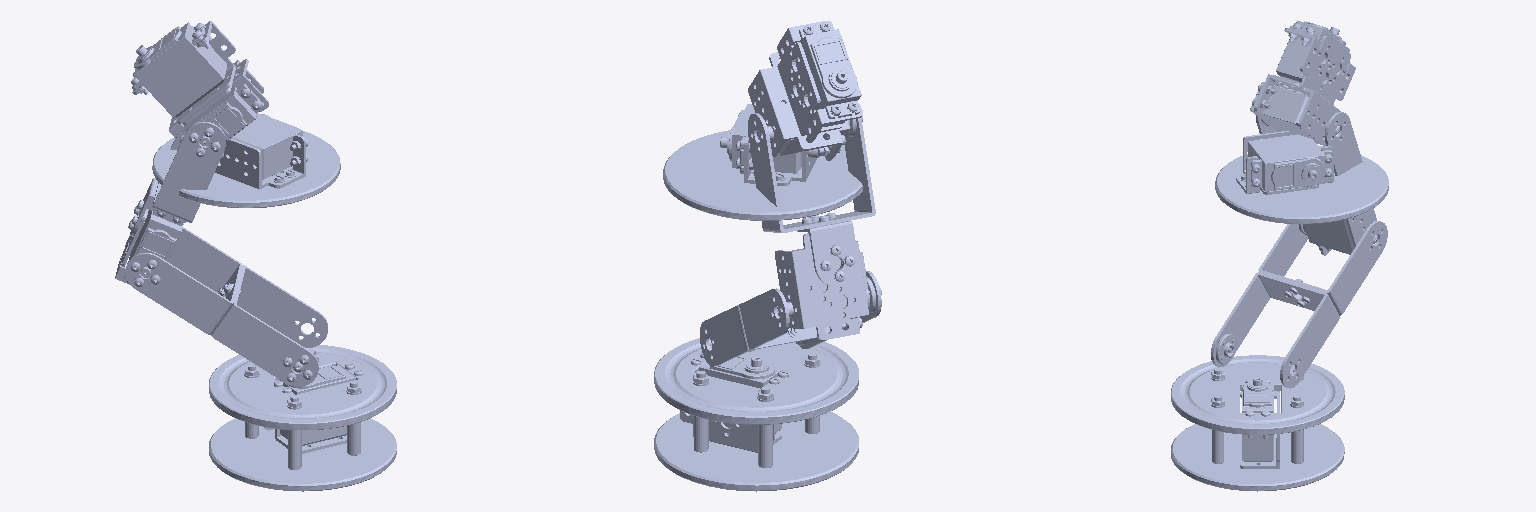
The robot description file, URDF, robot "Assem2SLDASM":
<?xml version="1.0" encoding="utf-8"?>
<!-- This URDF was automatically created by SolidWorks to URDF Exporter! Originally created by [author] ([email redacted]) 
     Commit Version: 1.4.4-24-g24328f6  Build Version: 1.5.7084.36479
     For more information, please see http://wiki.ros.org/sw_urdf_exporter -->
<robot
  name="Assem2SLDASM">
  <link
    name="Link1">
    <inertial>
      <origin
        xyz="0.00242337238300405 0.000244420895475418 0.0228672645166965"
        rpy="0 0 0" />
      <mass
        value="0.131801903556129" />
      <inertia
        ixx="7.63794329240272E-05"
        ixy="1.25864501604435E-07"
        ixz="1.05711051222879E-07"
        iyy="7.98578099765161E-05"
        iyz="-1.5585179106908E-07"
        izz="0.00014368056997496" />
    </inertial>
    <visual>
      <origin
        xyz="0 0 0"
        rpy="0 0 0" />
      <geometry>
        <mesh
          filename="package://Assem2SLDASM/meshes/Link1.STL" />
      </geometry>
      <material
        name="">
        <color
          rgba="0.792156862745098 0.819607843137255 0.933333333333333 1" />
      </material>
    </visual>
    <collision>
      <origin
        xyz="0 0 0"
        rpy="0 0 0" />
      <geometry>
        <mesh
          filename="package://Assem2SLDASM/meshes/Link1.STL" />
      </geometry>
    </collision>
  </link>
  <link
    name="Link2">
    <inertial>
      <origin
        xyz="-0.00448919132136779 0.0010163083381794 0.0132179745968559"
        rpy="0 0 0" />
      <mass
        value="0.0844685451790042" />
      <inertia
        ixx="4.04302621634984E-05"
        ixy="9.70410117387888E-08"
        ixz="7.29418615628457E-11"
        iyy="4.13116509442574E-05"
        iyz="-1.56570797606949E-07"
        izz="7.88565504182673E-05" />
    </inertial>
    <visual>
      <origin
        xyz="0 0 0"
        rpy="0 0 0" />
      <geometry>
        <mesh
          filename="package://Assem2SLDASM/meshes/Link2.STL" />
      </geometry>
      <material
        name="">
        <color
          rgba="0.792156862745098 0.819607843137255 0.933333333333333 1" />
      </material>
    </visual>
    <collision>
      <origin
        xyz="0 0 0"
        rpy="0 0 0" />
      <geometry>
        <mesh
          filename="package://Assem2SLDASM/meshes/Link2.STL" />
      </geometry>
    </collision>
  </link>
  <joint
    name="Joint12"
    type="continuous">
    <origin
      xyz="0 0 0.04455"
      rpy="0 0 -0.6268" />
    <parent
      link="Link1" />
    <child
      link="Link2" />
    <axis
      xyz="0 0 1" />
    <safety_controller
      k_velocity="0" />
  </joint>
  <link
    name="Link3">
    <inertial>
      <origin
        xyz="2.7761126730752E-13 -0.00292934095761329 0.0530478958063427"
        rpy="0 0 0" />
      <mass
        value="0.0197276275361929" />
      <inertia
        ixx="1.6432831338095E-05"
        ixy="5.72975956204265E-18"
        ixz="3.59141969635823E-18"
        iyy="7.60726797028143E-06"
        iyz="-9.54512370736908E-19"
        izz="1.06643004924981E-05" />
    </inertial>
    <visual>
      <origin
        xyz="0 0 0"
        rpy="0 0 0" />
      <geometry>
        <mesh
          filename="package://Assem2SLDASM/meshes/Link3.STL" />
      </geometry>
      <material
        name="">
        <color
          rgba="0.792156862745098 0.819607843137255 0.933333333333333 1" />
      </material>
    </visual>
    <collision>
      <origin
        xyz="0 0 0"
        rpy="0 0 0" />
      <geometry>
        <mesh
          filename="package://Assem2SLDASM/meshes/Link3.STL" />
      </geometry>
    </collision>
  </link>
  <joint
    name="Joint23"
    type="continuous">
    <origin
      xyz="0 0 0.0227499999999998"
      rpy="0 -1.00289556356776 0" />
    <parent
      link="Link2" />
    <child
      link="Link3" />
    <axis
      xyz="0 1 0" />
    <safety_controller
      k_velocity="0" />
  </joint>
  <link
    name="Link4">
    <inertial>
      <origin
        xyz="0.0221626245965853 -0.00296659378825499 0.00141694604215706"
        rpy="0 0 0" />
      <mass
        value="0.0507152226018798" />
      <inertia
        ixx="1.18096953827948E-05"
        ixy="-1.02203827190711E-07"
        ixz="1.05821169592991E-07"
        iyy="1.13347265415034E-05"
        iyz="1.56536046725083E-07"
        izz="1.92185524092115E-05" />
    </inertial>
    <visual>
      <origin
        xyz="0 0 0"
        rpy="0 0 0" />
      <geometry>
        <mesh
          filename="package://Assem2SLDASM/meshes/Link4.STL" />
      </geometry>
      <material
        name="">
        <color
          rgba="0.792156862745098 0.819607843137255 0.933333333333333 1" />
      </material>
    </visual>
    <collision>
      <origin
        xyz="0 0 0"
        rpy="0 0 0" />
      <geometry>
        <mesh
          filename="package://Assem2SLDASM/meshes/Link4.STL" />
      </geometry>
    </collision>
  </link>
  <joint
    name="Joint34"
    type="continuous">
    <origin
      xyz="0 0 0.106"
      rpy="0 -0.188199097624892 0" />
    <parent
      link="Link3" />
    <child
      link="Link4" />
    <axis
      xyz="0 1 0" />
    <safety_controller
      k_velocity="0" />
  </joint>
  <link
    name="Link5">
    <inertial>
      <origin
        xyz="0.0184668589278823 -0.00643708655279295 -0.0099125438022348"
        rpy="0 0 0" />
      <mass
        value="0.0762503746174834" />
      <inertia
        ixx="1.77815773739434E-05"
        ixy="4.75344278926216E-16"
        ixz="-1.02203788258682E-07"
        iyy="1.77824869156219E-05"
        iyz="1.02203858497311E-07"
        izz="1.23922032295217E-05" />
    </inertial>
    <visual>
      <origin
        xyz="0 0 0"
        rpy="0 0 0" />
      <geometry>
        <mesh
          filename="package://Assem2SLDASM/meshes/Link5.STL" />
      </geometry>
      <material
        name="">
        <color
          rgba="0.792156862745098 0.819607843137255 0.933333333333333 1" />
      </material>
    </visual>
    <collision>
      <origin
        xyz="0 0 0"
        rpy="0 0 0" />
      <geometry>
        <mesh
          filename="package://Assem2SLDASM/meshes/Link5.STL" />
      </geometry>
    </collision>
  </link>
  <joint
    name="Joint45"
    type="continuous">
    <origin
      xyz="0.0949999999999999 0 0"
      rpy="0 -1.09975502425216 0" />
    <parent
      link="Link4" />
    <child
      link="Link5" />
    <axis
      xyz="0 -0.221964377844789 -0.975054775368018" />
    <safety_controller
      k_velocity="0" />
  </joint>
  <link
    name="Link6">
    <inertial>
      <origin
        xyz="0.054209742182415 0.00158509318317964 -0.0131287052157063"
        rpy="0 0 0" />
      <mass
        value="0.0711741375862673" />
      <inertia
        ixx="1.32236803327788E-05"
        ixy="2.95694902148427E-07"
        ixz="-4.33104997127868E-13"
        iyy="1.1411690408975E-05"
        iyz="9.26768309878214E-08"
        izz="1.50666320097046E-05" />
    </inertial>
    <visual>
      <origin
        xyz="0 0 0"
        rpy="0 0 0" />
      <geometry>
        <mesh
          filename="package://Assem2SLDASM/meshes/Link6.STL" />
      </geometry>
      <material
        name="">
        <color
          rgba="0.792156862745098 0.819607843137255 0.933333333333333 1" />
      </material>
    </visual>
    <collision>
      <origin
        xyz="0 0 0"
        rpy="0 0 0" />
      <geometry>
        <mesh
          filename="package://Assem2SLDASM/meshes/Link6.STL" />
      </geometry>
    </collision>
  </link>
  <joint
    name="Joint56"
    type="continuous">
    <origin
      xyz="0.0532306415377259 -0.00809999999999914 0"
      rpy="2.91776401016688 0 0" />
    <parent
      link="Link5" />
    <child
      link="Link6" />
    <axis
      xyz="0 0 1" />
    <safety_controller
      k_velocity="0" />
  </joint>
</robot>

--- Facts derived from the render (not from the file) ---
Views: 3 orthographic renders of the robot side by side, from view 1: azimuth 30°, elevation 25°; view 2: azimuth 150°, elevation 25°; view 3: azimuth 270°, elevation 25°.
Model Assem2SLDASM with 6 links and 5 joints (5 continuous), rooted at Link1, posed every joint at zero.
Visible links, largest first — view 1: Link1, Link3, Link5, Link2, Link4; view 2: Link1, Link4, Link2, Link5, Link3; view 3: Link1, Link2, Link3, Link5, Link4.
Boxes of the visible links, bbox=[...] form: Link1: bbox=[209, 345, 396, 491]; Link3: bbox=[125, 227, 327, 386]; Link5: bbox=[131, 21, 268, 145]; Link2: bbox=[152, 113, 340, 207]; Link4: bbox=[115, 121, 225, 284]; Link1: bbox=[654, 338, 858, 491]; Link4: bbox=[748, 113, 875, 339]; Link2: bbox=[663, 104, 862, 220]; Link5: bbox=[748, 21, 862, 160]; Link3: bbox=[700, 271, 881, 366]; Link1: bbox=[1171, 355, 1344, 491]; Link2: bbox=[1215, 131, 1388, 223]; Link3: bbox=[1211, 221, 1387, 388]; Link5: bbox=[1250, 20, 1355, 146]; Link4: bbox=[1256, 112, 1377, 255].
Size in the robot's own frame: 0.1535 by 0.138 by 0.2751 metres.
Meshes: 6 distinct files referenced, 5 mesh visuals loaded (5 binary STL); not drawn: 1 (reference not matched to a file when rendering).